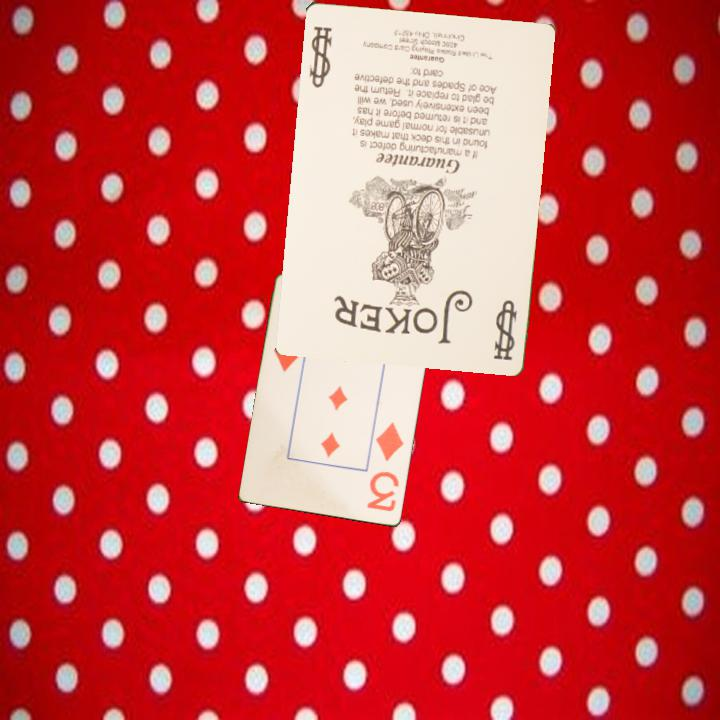3d: (364, 419, 407, 515)
JK: (304, 22, 335, 90), (489, 296, 520, 363)
